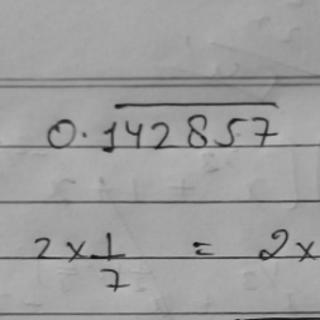.: (78, 130, 92, 140)
0: (47, 117, 78, 150)
1: (102, 121, 119, 156), (106, 230, 112, 258)
2: (260, 228, 292, 262), (151, 119, 177, 150), (32, 233, 54, 262)
4: (124, 115, 144, 150)
5: (216, 116, 247, 148)
7: (252, 113, 279, 149), (102, 267, 129, 297)
8: (184, 111, 210, 151)
